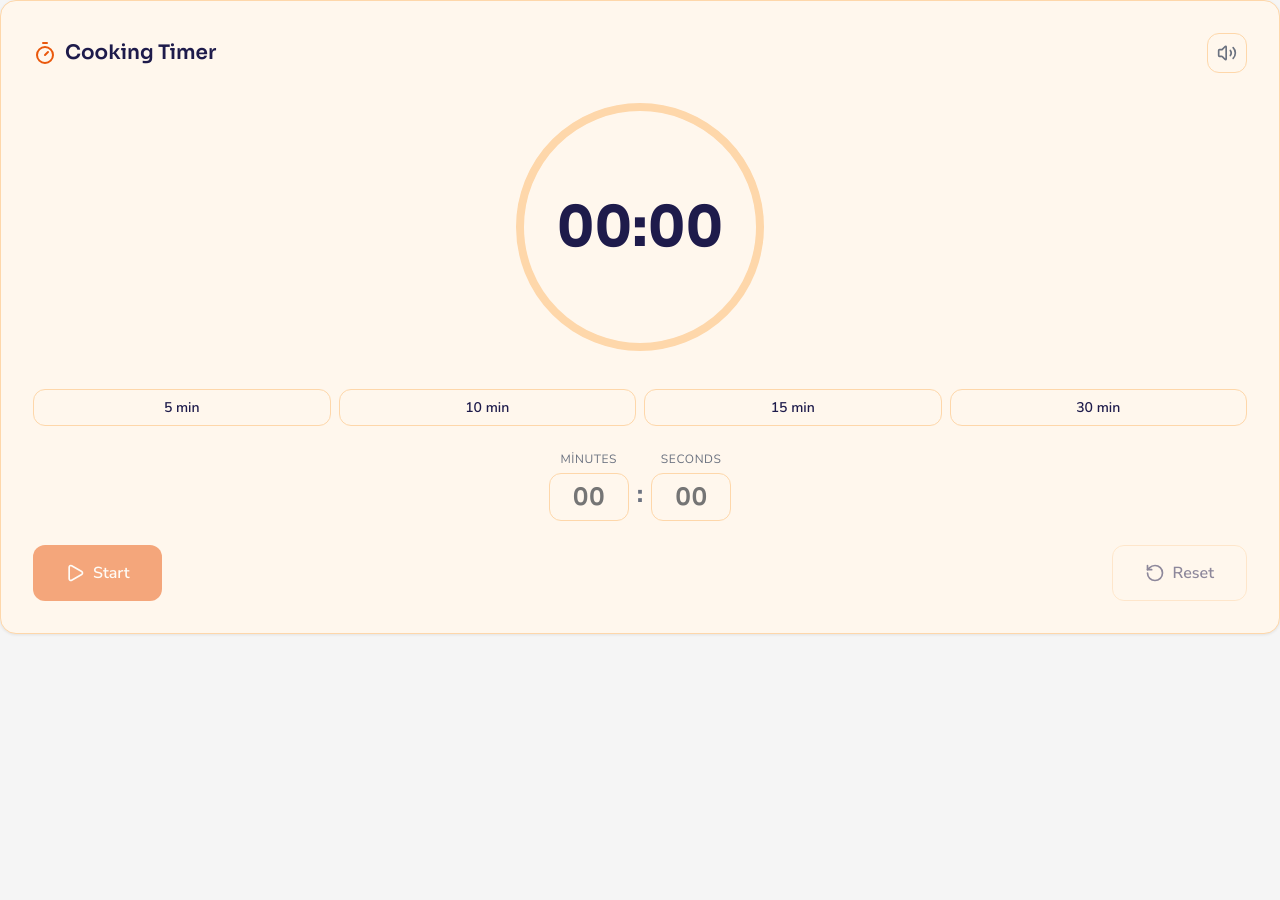
Timer Component › Custom Time Input › updates timer display when custom time is entered
Type "5" into the number field labelled "Minutes" at {"x": 589, "y": 497}, box [549,473,629,521]
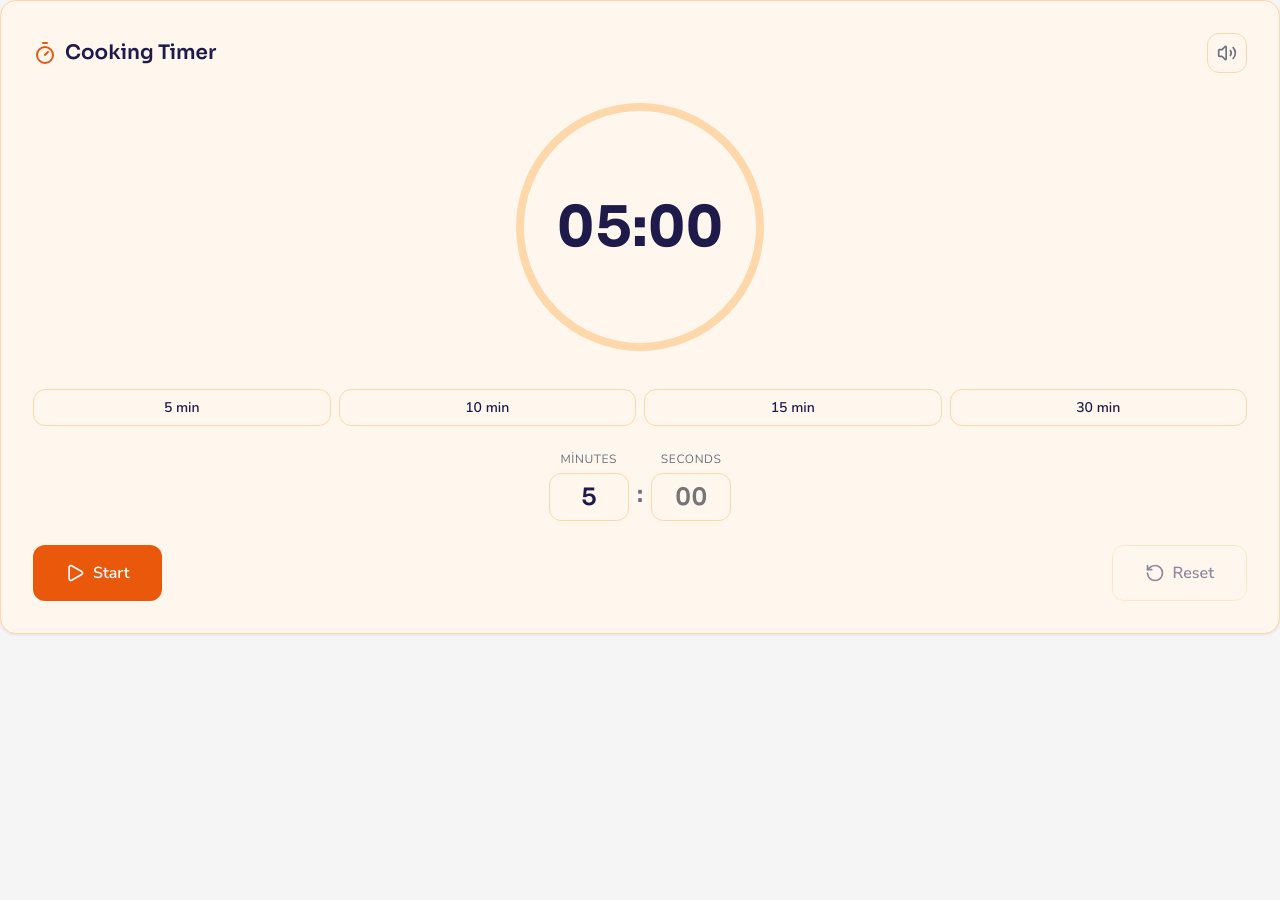
Type "30" into the number field labelled "Seconds" at {"x": 691, "y": 497}, box [651,473,731,521]
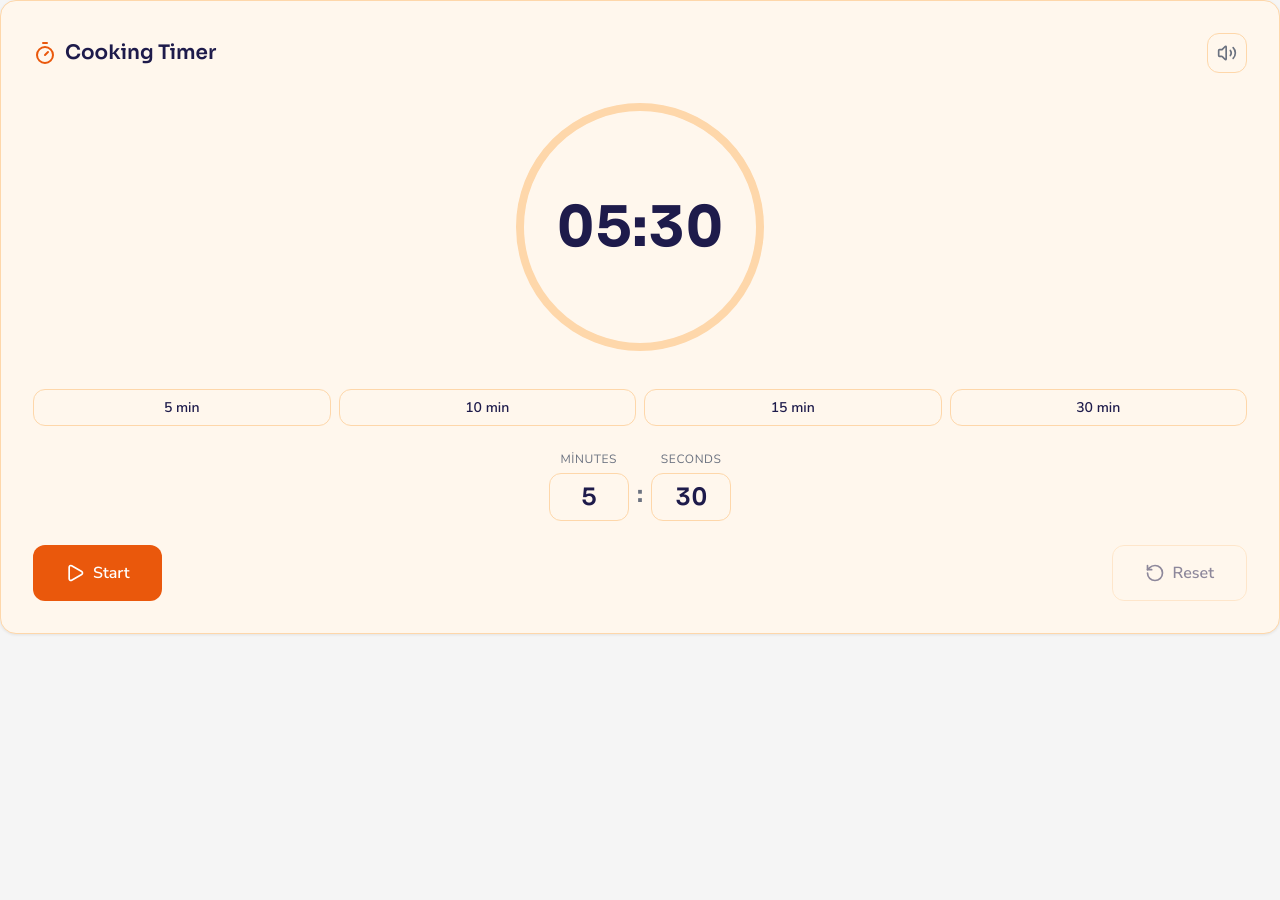
Result: the text "05:30" is shown at [557,199,723,255]
